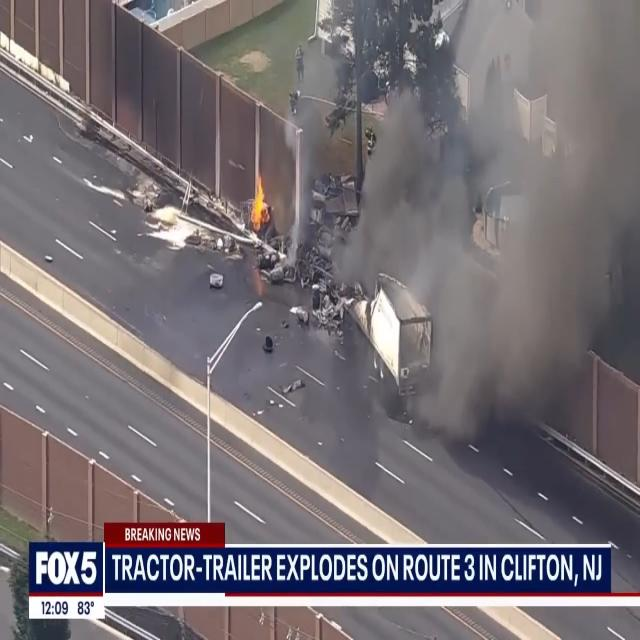fire: (245, 176, 273, 233)
